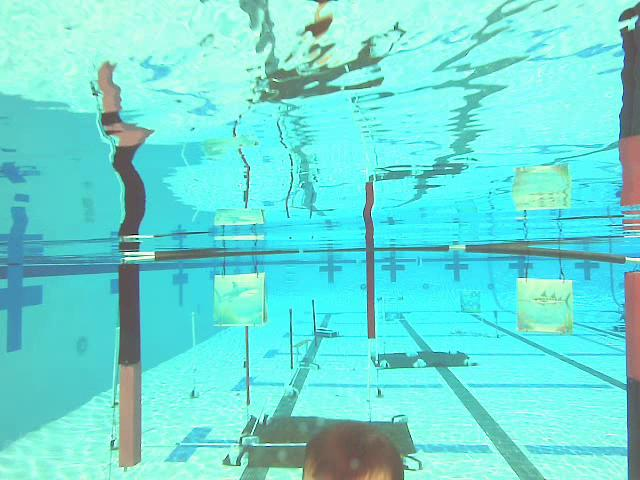black_poster: (245, 325, 251, 403), (288, 309, 295, 370), (311, 301, 319, 349)
divider: (368, 249, 374, 339)
left_gate_poster: (118, 266, 142, 468)
right_gate_poster: (624, 272, 640, 480)
shark: (214, 273, 265, 328)
swordfish: (517, 280, 573, 331)
white_poster: (190, 313, 195, 372)
